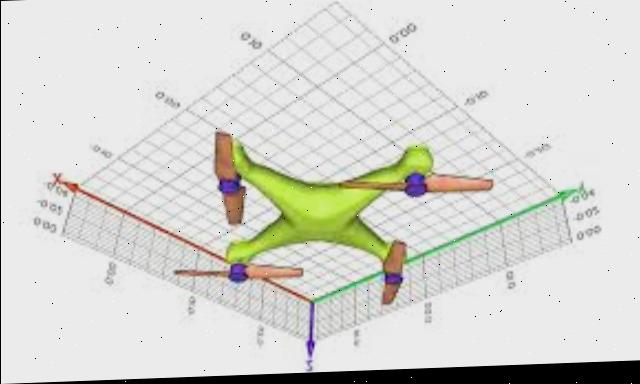drone: (170, 120, 514, 305)
